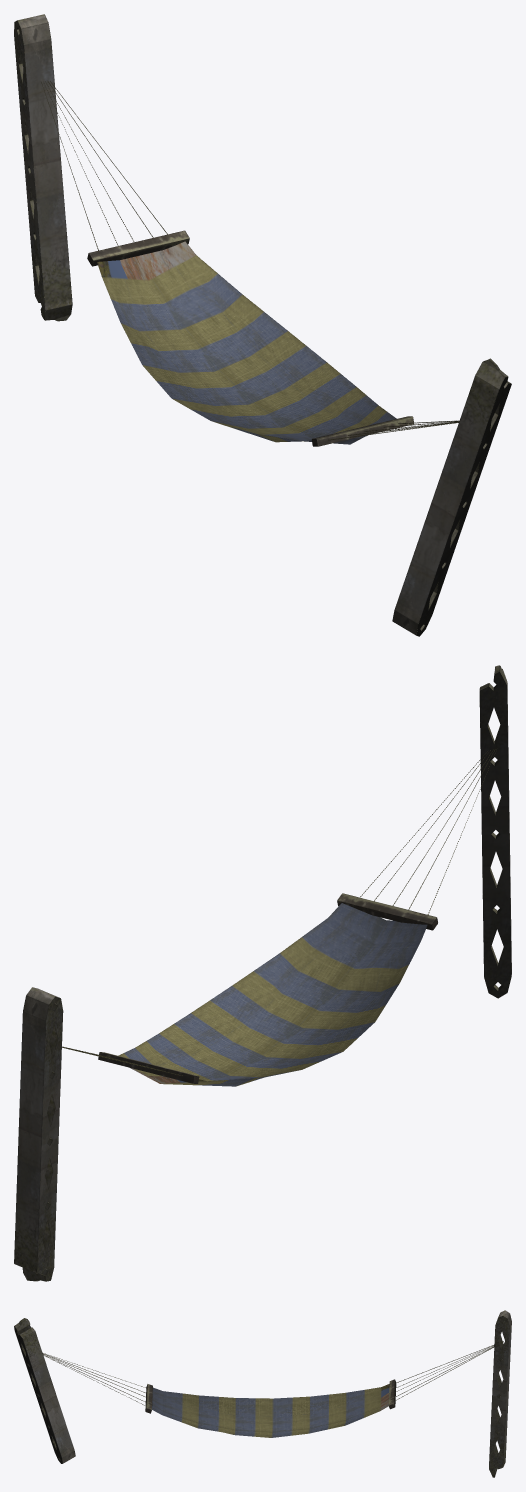
Rendered from ETC0610044.fbx.
3 views of the same model, one above another, from view 1: azimuth 30°, elevation 25°; view 2: azimuth 150°, elevation 25°; view 3: azimuth 270°, elevation 25° (orthographic). The views are drawn at different scales.
Parts seen in each view (by area): view 1: smETC0610044; view 2: smETC0610044; view 3: smETC0610044.
Part boxes in pixels (bbox=[...]): smETC0610044: bbox=[14, 14, 511, 636]; smETC0610044: bbox=[14, 665, 511, 1281]; smETC0610044: bbox=[14, 1310, 511, 1477].
Bounding box in the file's own units: 133 × 252 × 710.
Materials: 1 (1 with a texture image).
